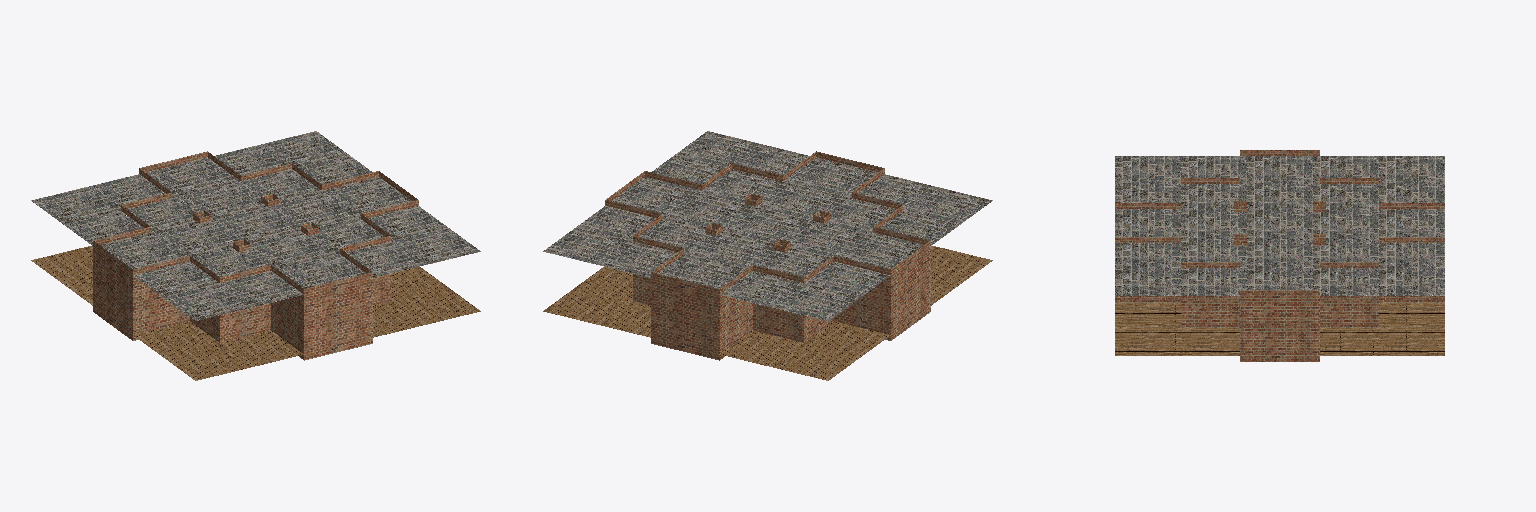
3 views of the same model, side by side, from view 1: azimuth 30°, elevation 25°; view 2: azimuth 150°, elevation 25°; view 3: azimuth 270°, elevation 25° (orthographic).
Visible parts, largest first — view 1: objPlane02, objBox05, objPlane01; view 2: objPlane02, objBox05, objPlane01; view 3: objPlane02, objBox05, objPlane01.
Boxes of the visible parts, <box> form: objPlane02: <box>31,131,480,320</box>; objBox05: <box>93,151,418,360</box>; objPlane01: <box>31,246,480,380</box>; objPlane02: <box>543,131,992,320</box>; objBox05: <box>605,151,930,360</box>; objPlane01: <box>543,246,992,380</box>; objPlane02: <box>1115,156,1444,295</box>; objBox05: <box>1115,150,1444,361</box>; objPlane01: <box>1115,303,1444,355</box>.
Size of the model in its own units: 250 by 60 by 250.
Materials: 4 (3 with a texture image).